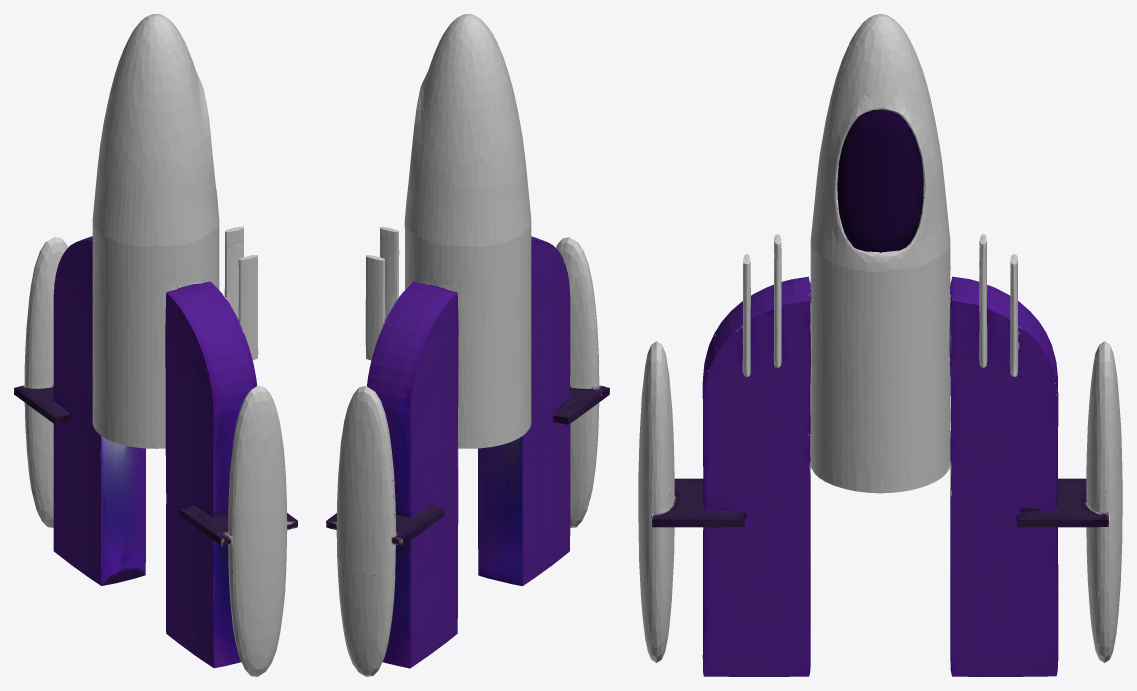
The model's file is player_space_ship.glb.
3 renders of one model, left to right at view 1: azimuth 30°, elevation 25°; view 2: azimuth 150°, elevation 25°; view 3: azimuth 270°, elevation 25°, orthographic. The views are drawn at different scales.
Visible parts, largest first — view 1: tripo_node_358906ca-127b-45b4-aaba-0bb54a419dec; view 2: tripo_node_358906ca-127b-45b4-aaba-0bb54a419dec; view 3: tripo_node_358906ca-127b-45b4-aaba-0bb54a419dec.
Part boxes in pixels (box(x1,y1,x2,y2)): tripo_node_358906ca-127b-45b4-aaba-0bb54a419dec: box(14, 14, 297, 676); tripo_node_358906ca-127b-45b4-aaba-0bb54a419dec: box(326, 14, 609, 676); tripo_node_358906ca-127b-45b4-aaba-0bb54a419dec: box(638, 14, 1122, 676).
Bounding box in the file's own units: 0.1953 × 1 × 0.6763.
Materials: 1 (1 with a texture image).
